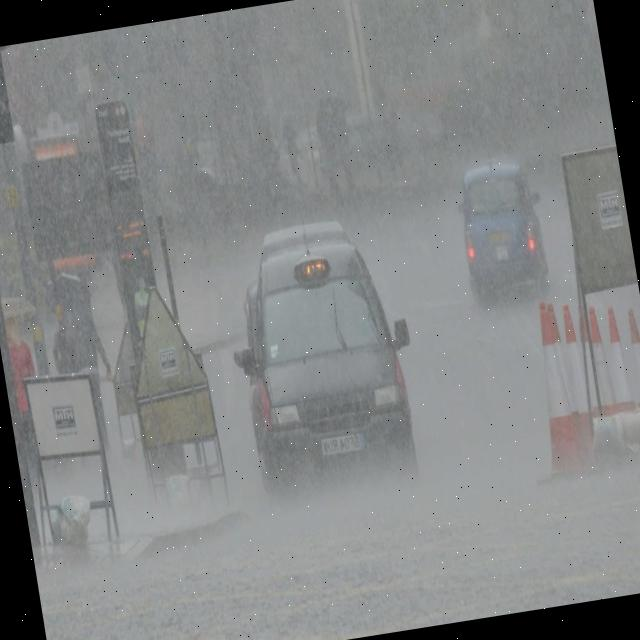car: (219, 206, 426, 508), (449, 154, 556, 306)
